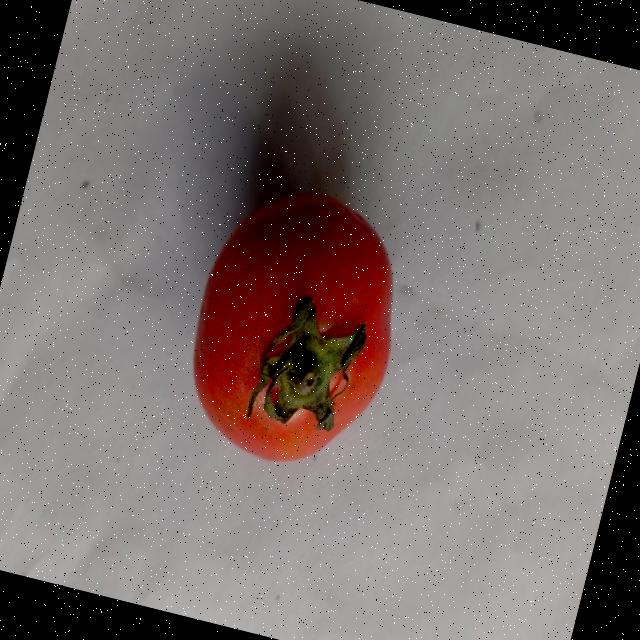Tomato: (162, 175, 427, 485)
